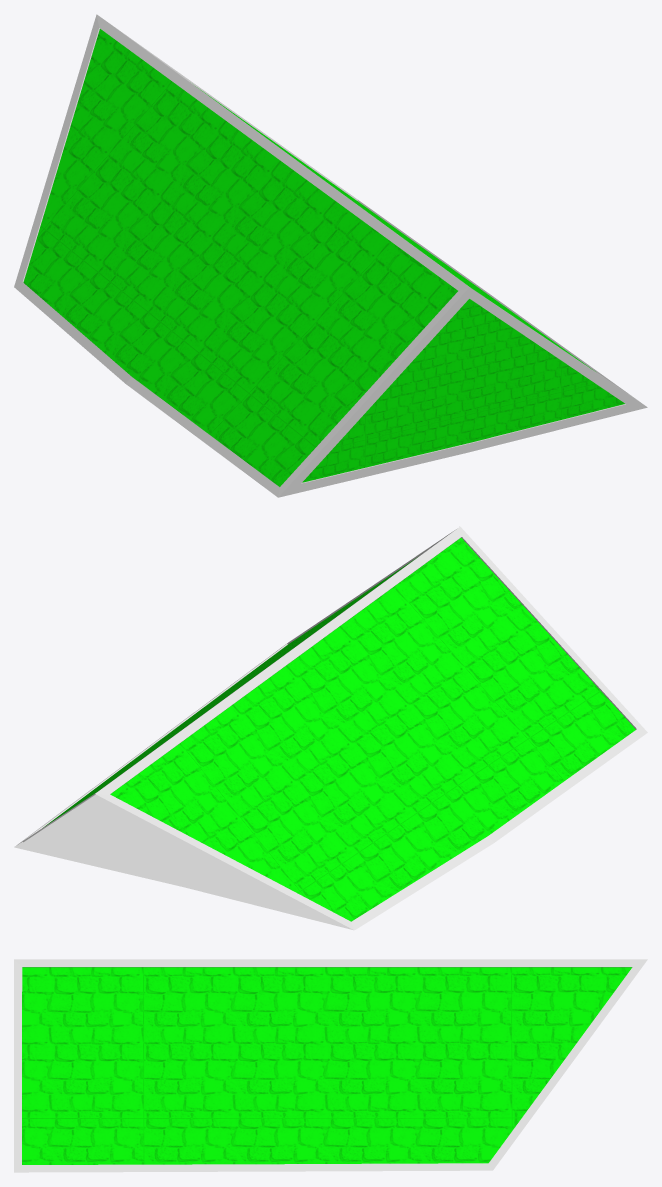
The picture shows the model from 3 angles, top to bottom: view 1: azimuth 30°, elevation 25°; view 2: azimuth 150°, elevation 25°; view 3: azimuth 270°, elevation 25°; orthographic projection. The views are drawn at different scales.
Visible parts, largest first — view 1: 별관 큰 지붕_block, 별관 큰 지붕; view 2: 별관 큰 지붕_block, 별관 큰 지붕; view 3: 별관 큰 지붕_block, 별관 큰 지붕.
Part boxes in pixels (box(x1,y1,x2,y2)): 별관 큰 지붕_block: box(23, 29, 624, 486); 별관 큰 지붕: box(14, 14, 647, 497); 별관 큰 지붕_block: box(43, 538, 635, 921); 별관 큰 지붕: box(14, 526, 647, 930); 별관 큰 지붕_block: box(22, 967, 631, 1164); 별관 큰 지붕: box(14, 959, 647, 1172).
Bounding box in the file's own units: 406 × 173 × 709.
